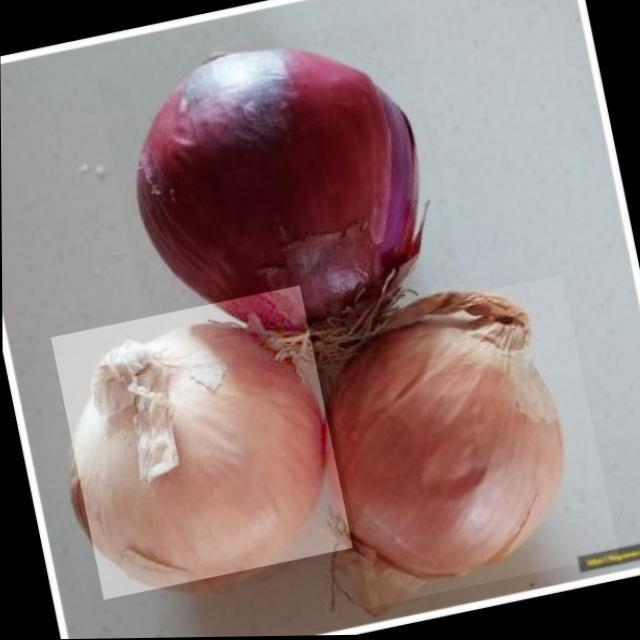Onion: (95, 12, 462, 344), (314, 276, 618, 609), (50, 286, 352, 600)
